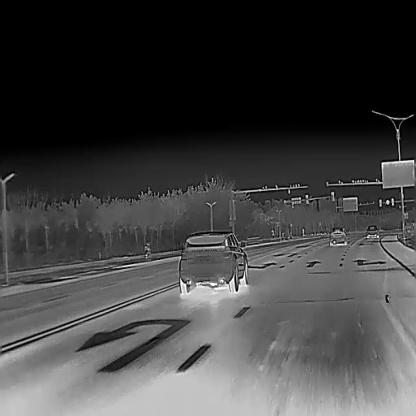car: (178, 230, 248, 292), (329, 226, 347, 244), (365, 224, 379, 238)
